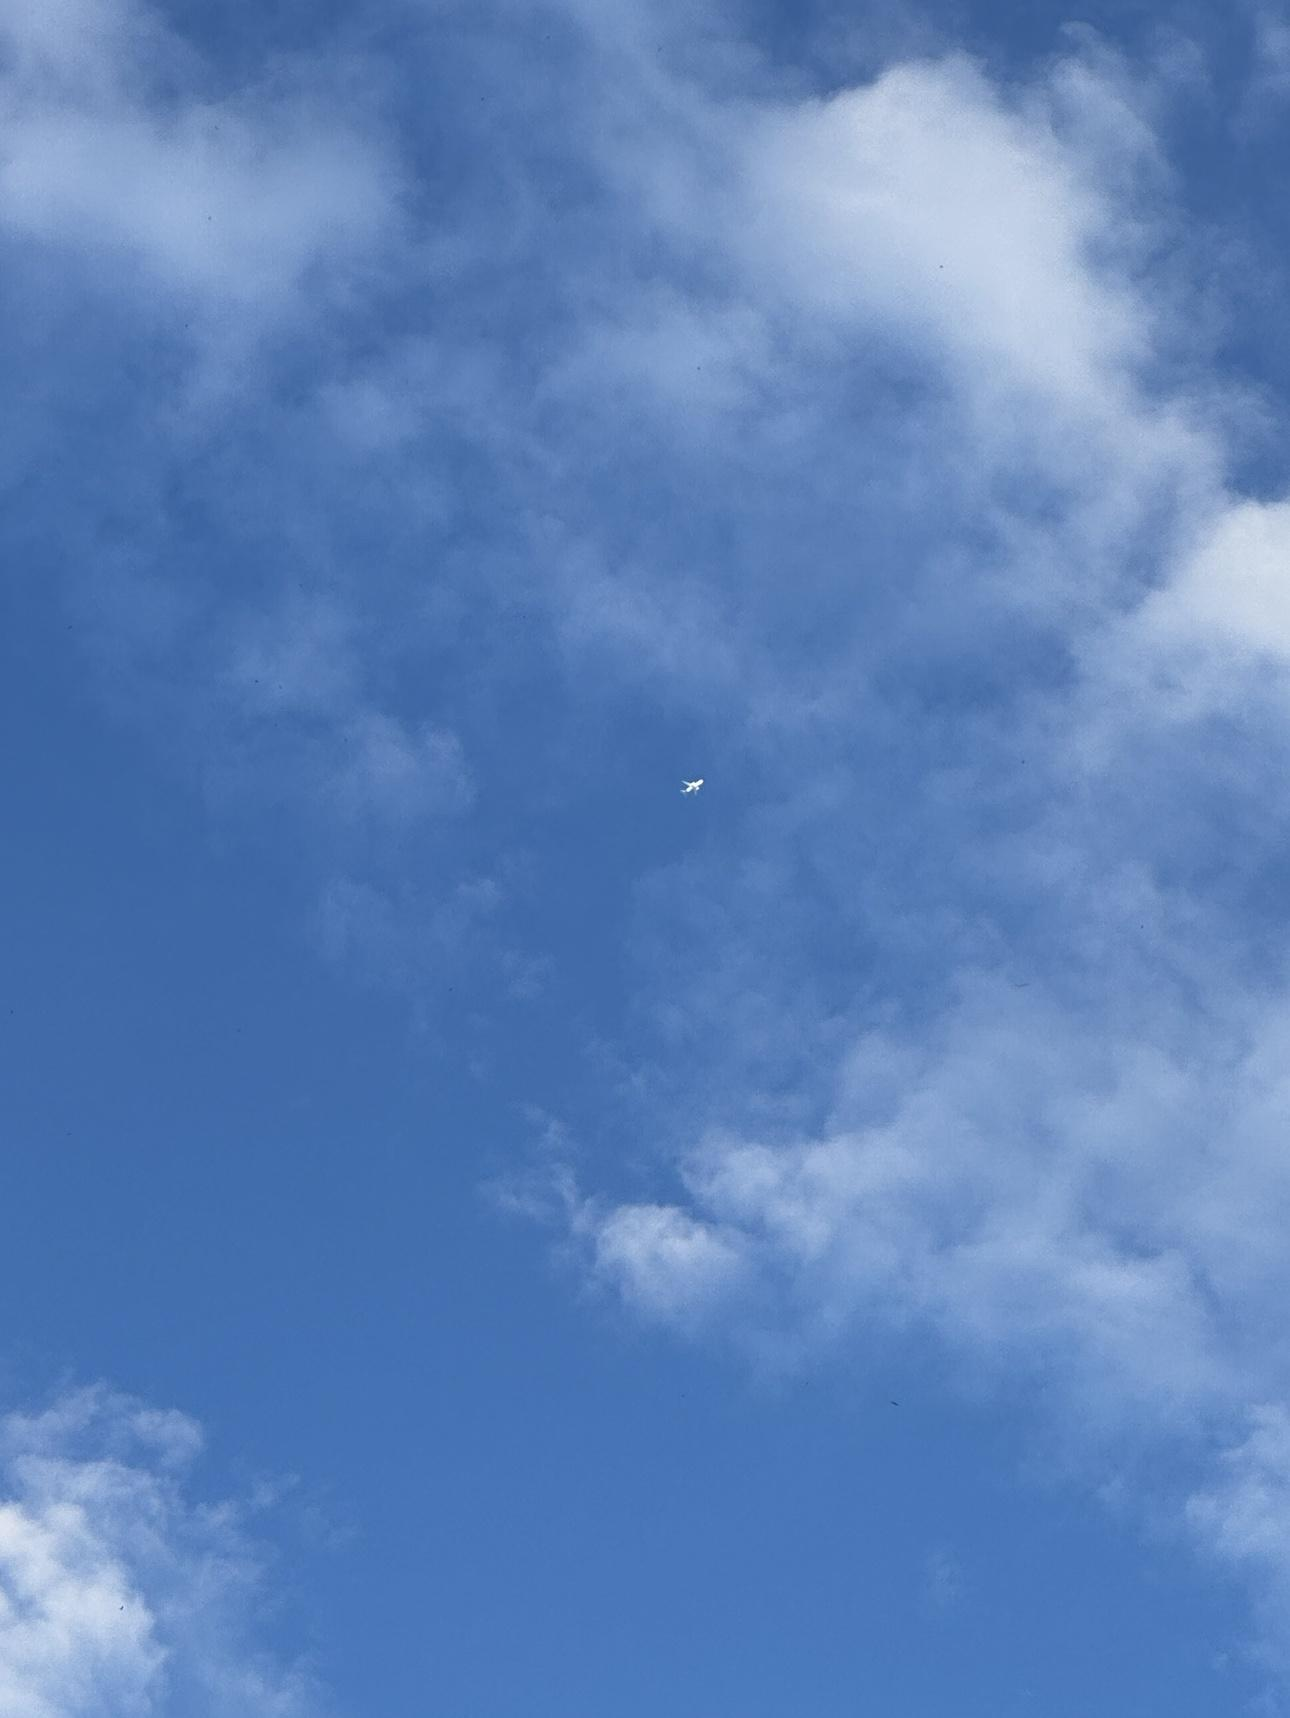Plane: (669, 770, 737, 801)
